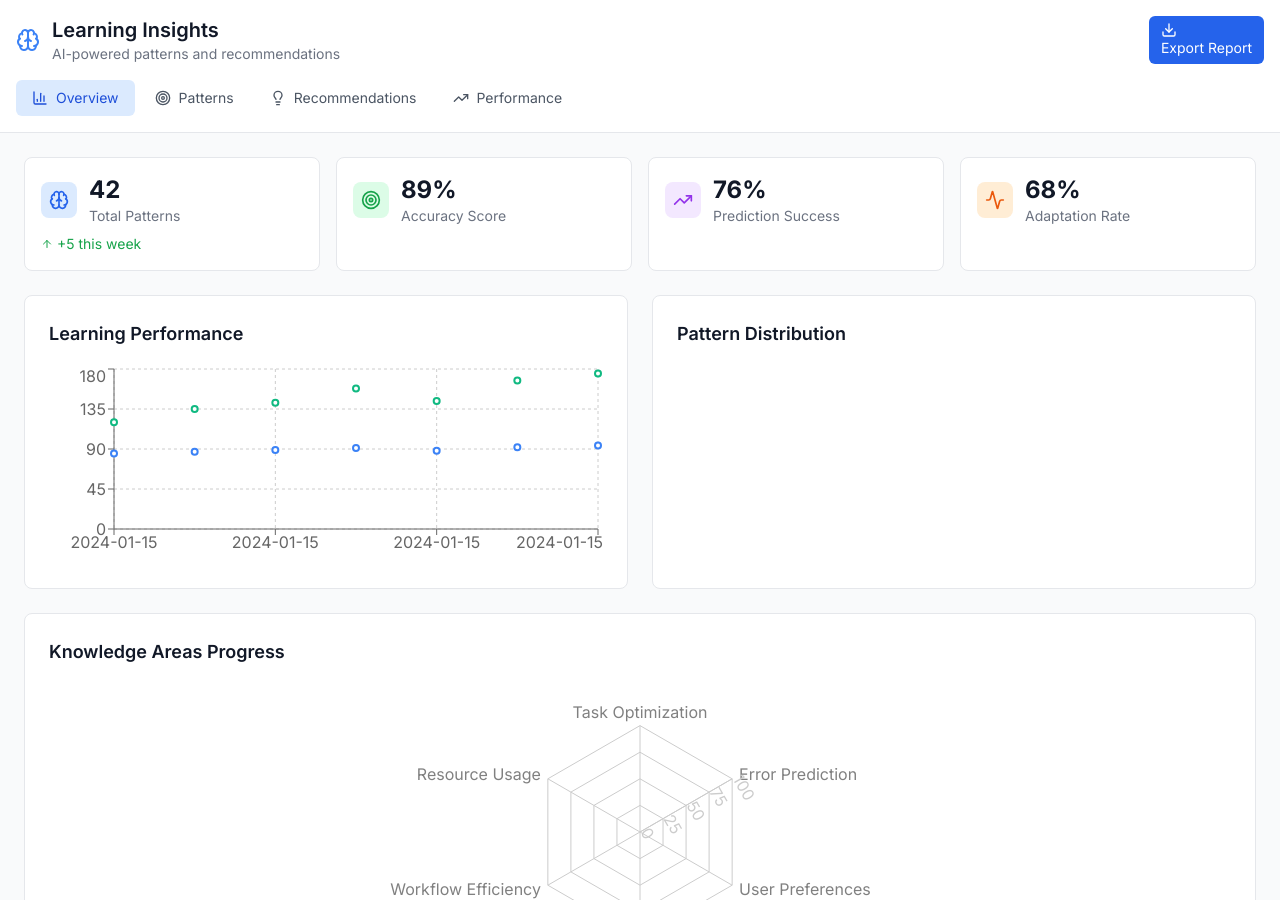
Phase 4: Advanced Features Integration Tests › Learning Insights › handles tab navigation
Click the button "Patterns" at (194, 98), box [139,80,250,116]
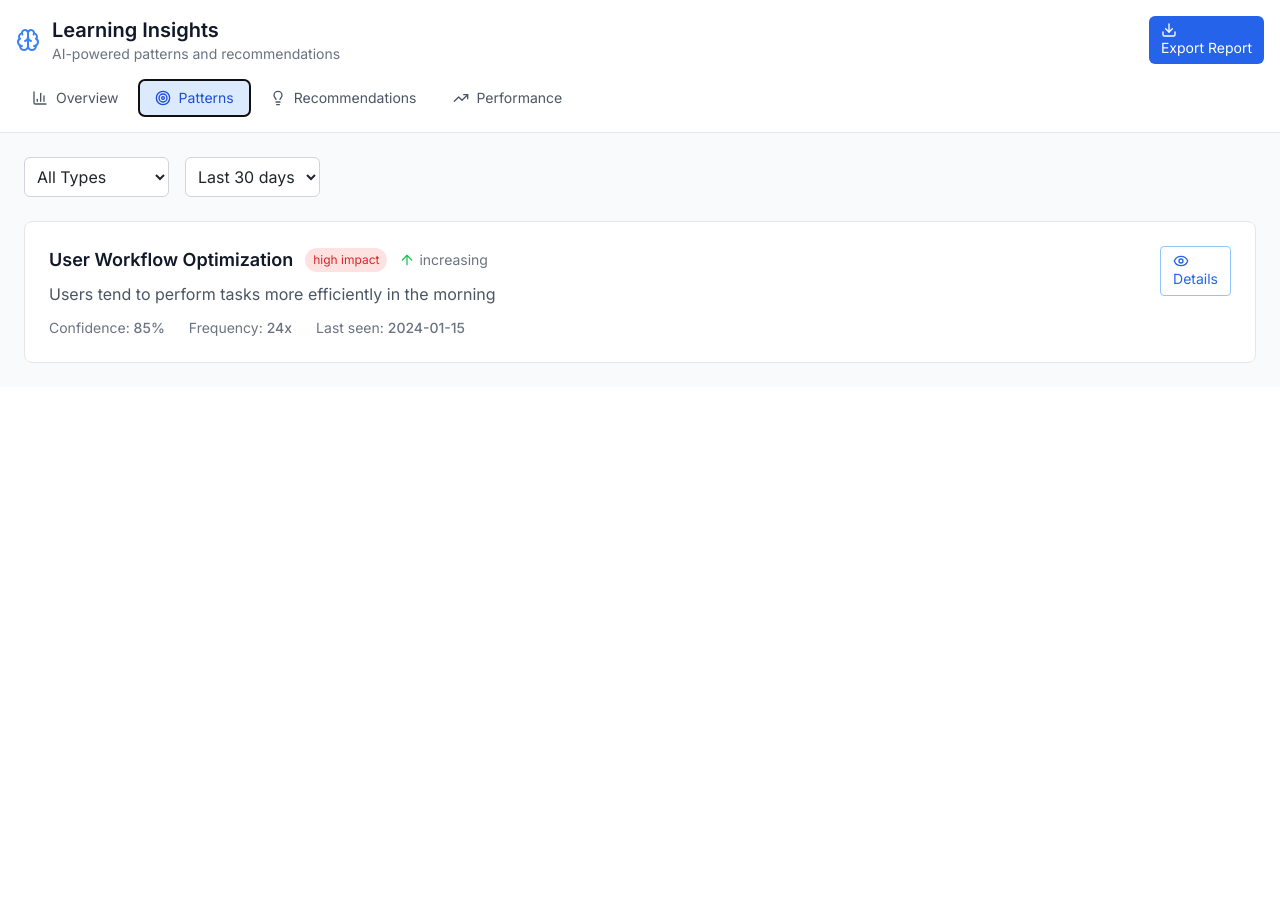
Expected: the heading "User Workflow Optimization" is shown, [49,246,293,274]
